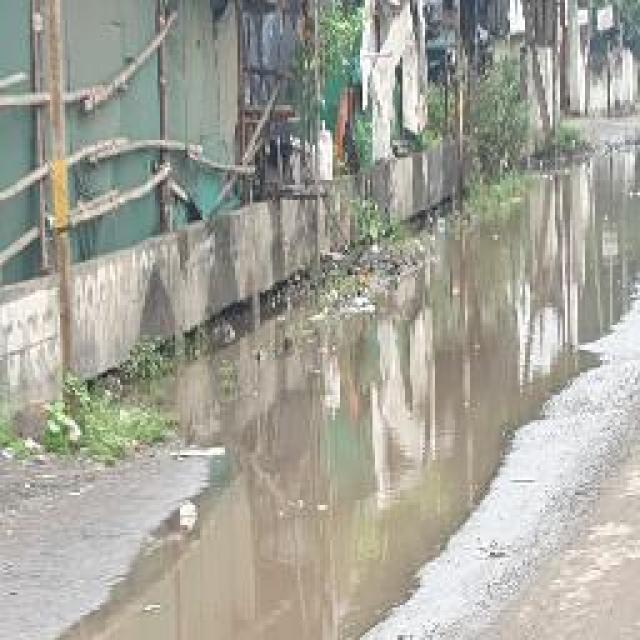waterlogging: (171, 257, 495, 640), (423, 140, 640, 418)
